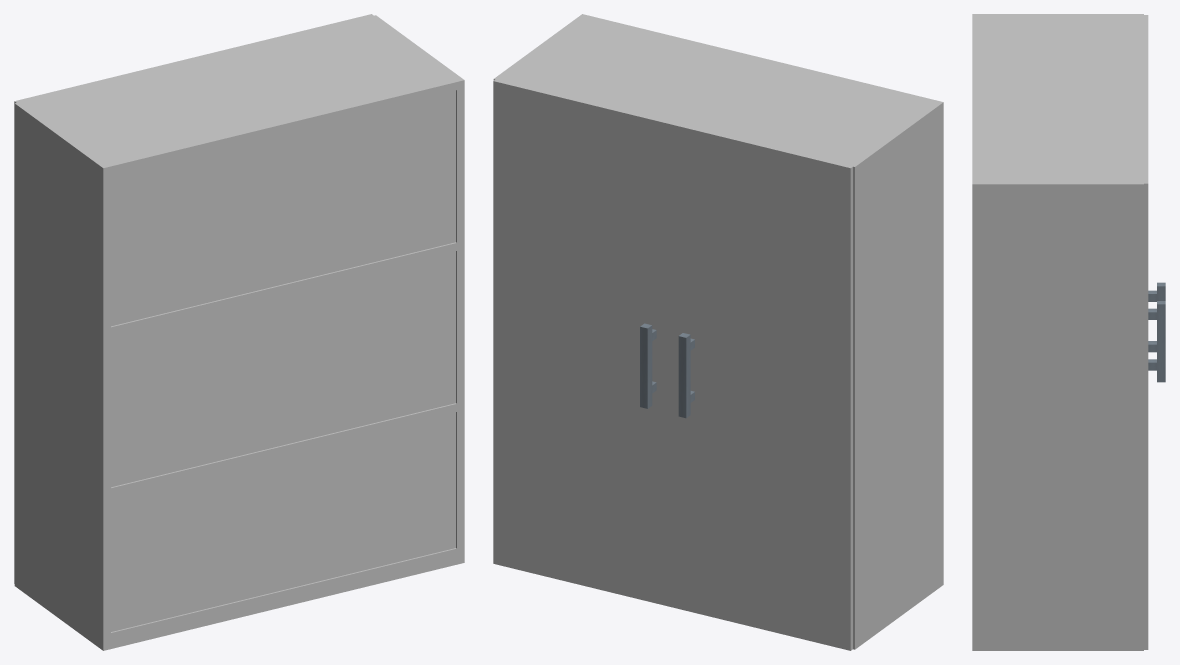
The model's file is Lemari001.fbx.
The picture shows the model from 3 angles, left to right: view 1: azimuth 30°, elevation 25°; view 2: azimuth 150°, elevation 25°; view 3: azimuth 270°, elevation 25°; orthographic projection. The views are drawn at different scales.
Parts seen in each view (by area): view 1: Lemari01, Cube.018, Cube.012; view 2: Cube.012, Cube.018, Lemari01, Cube.009, Cube.016; view 3: Lemari01, Cube.012, Cube.018, Cube.009.
Part boxes in pixels (x1,y1,x2,y2): Lemari01: (14,15,464,650); Cube.018: (14,57,198,583); Cube.012: (192,14,375,60); Cube.012: (493,78,677,607); Cube.018: (674,122,854,650); Lemari01: (493,14,943,649); Cube.009: (640,323,652,408); Cube.016: (678,333,690,418); Lemari01: (972,14,1143,650); Cube.012: (1139,98,1148,649); Cube.018: (1139,15,1148,99); Cube.009: (1157,301,1165,382).
Bounding box in the file's own units: 0.939 × 1.96 × 2.5.
